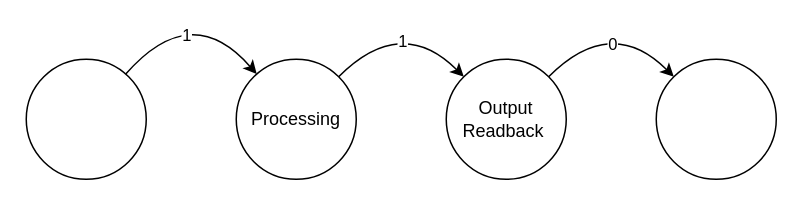
This 803x206 diagram has some shape labels left out. Each missing label, with the box of its shape:
Loading: (25, 58, 146, 179)
S3 1: (655, 58, 776, 179)
